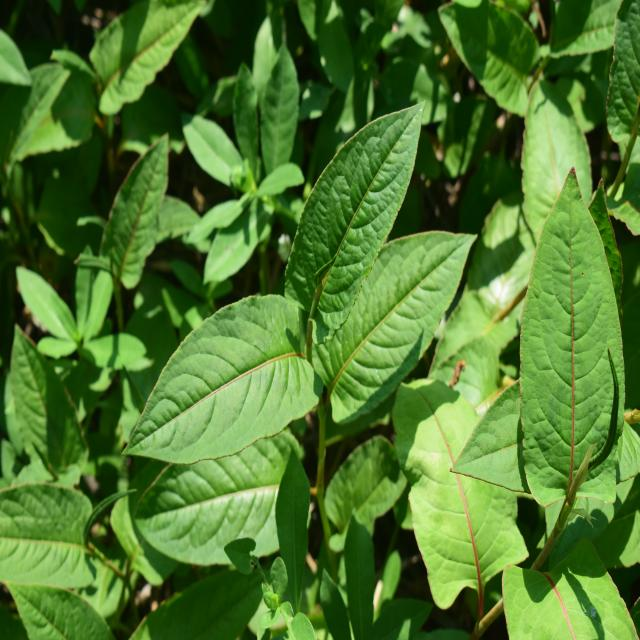Chinese_knotweed: (154, 121, 460, 485), (460, 167, 631, 637)
